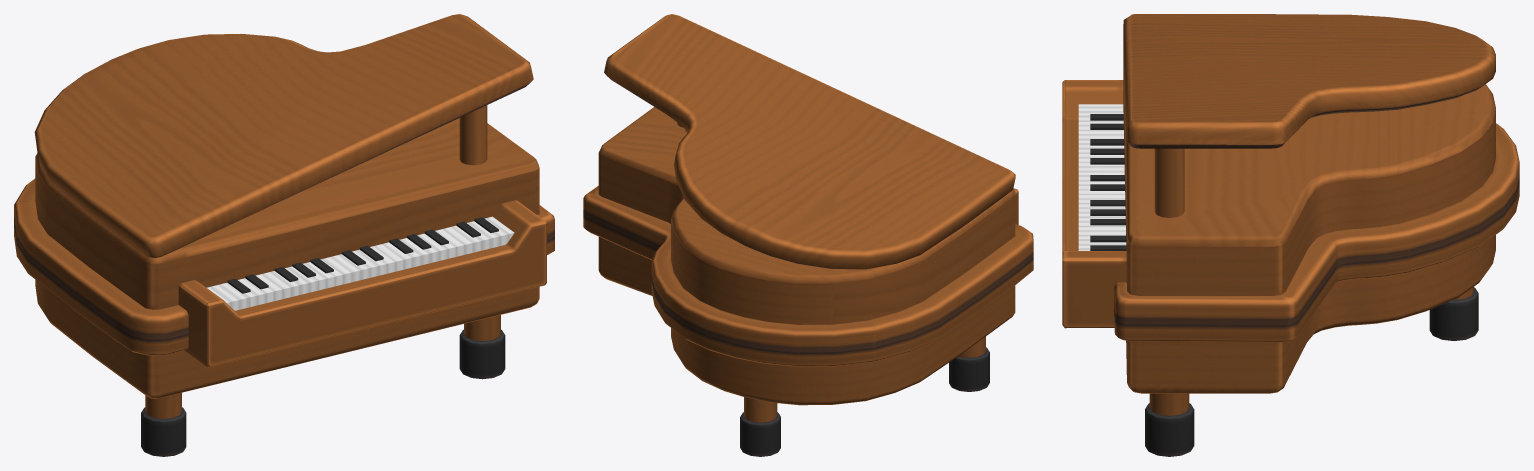
The model's file is piano_brown.fbx.
3 renders of one model, left to right at view 1: azimuth 30°, elevation 25°; view 2: azimuth 150°, elevation 25°; view 3: azimuth 270°, elevation 25°, orthographic. The views are drawn at different scales.
Parts seen in each view (by area): view 1: piano_brown; view 2: piano_brown; view 3: piano_brown.
Part boxes in pixels (x1=…): piano_brown: x1=14, y1=14, x2=554, y2=456; piano_brown: x1=583, y1=14, x2=1033, y2=456; piano_brown: x1=1062, y1=14, x2=1519, y2=456.
Bounding box in the file's own units: 1.22 × 0.8576 × 1.05.
